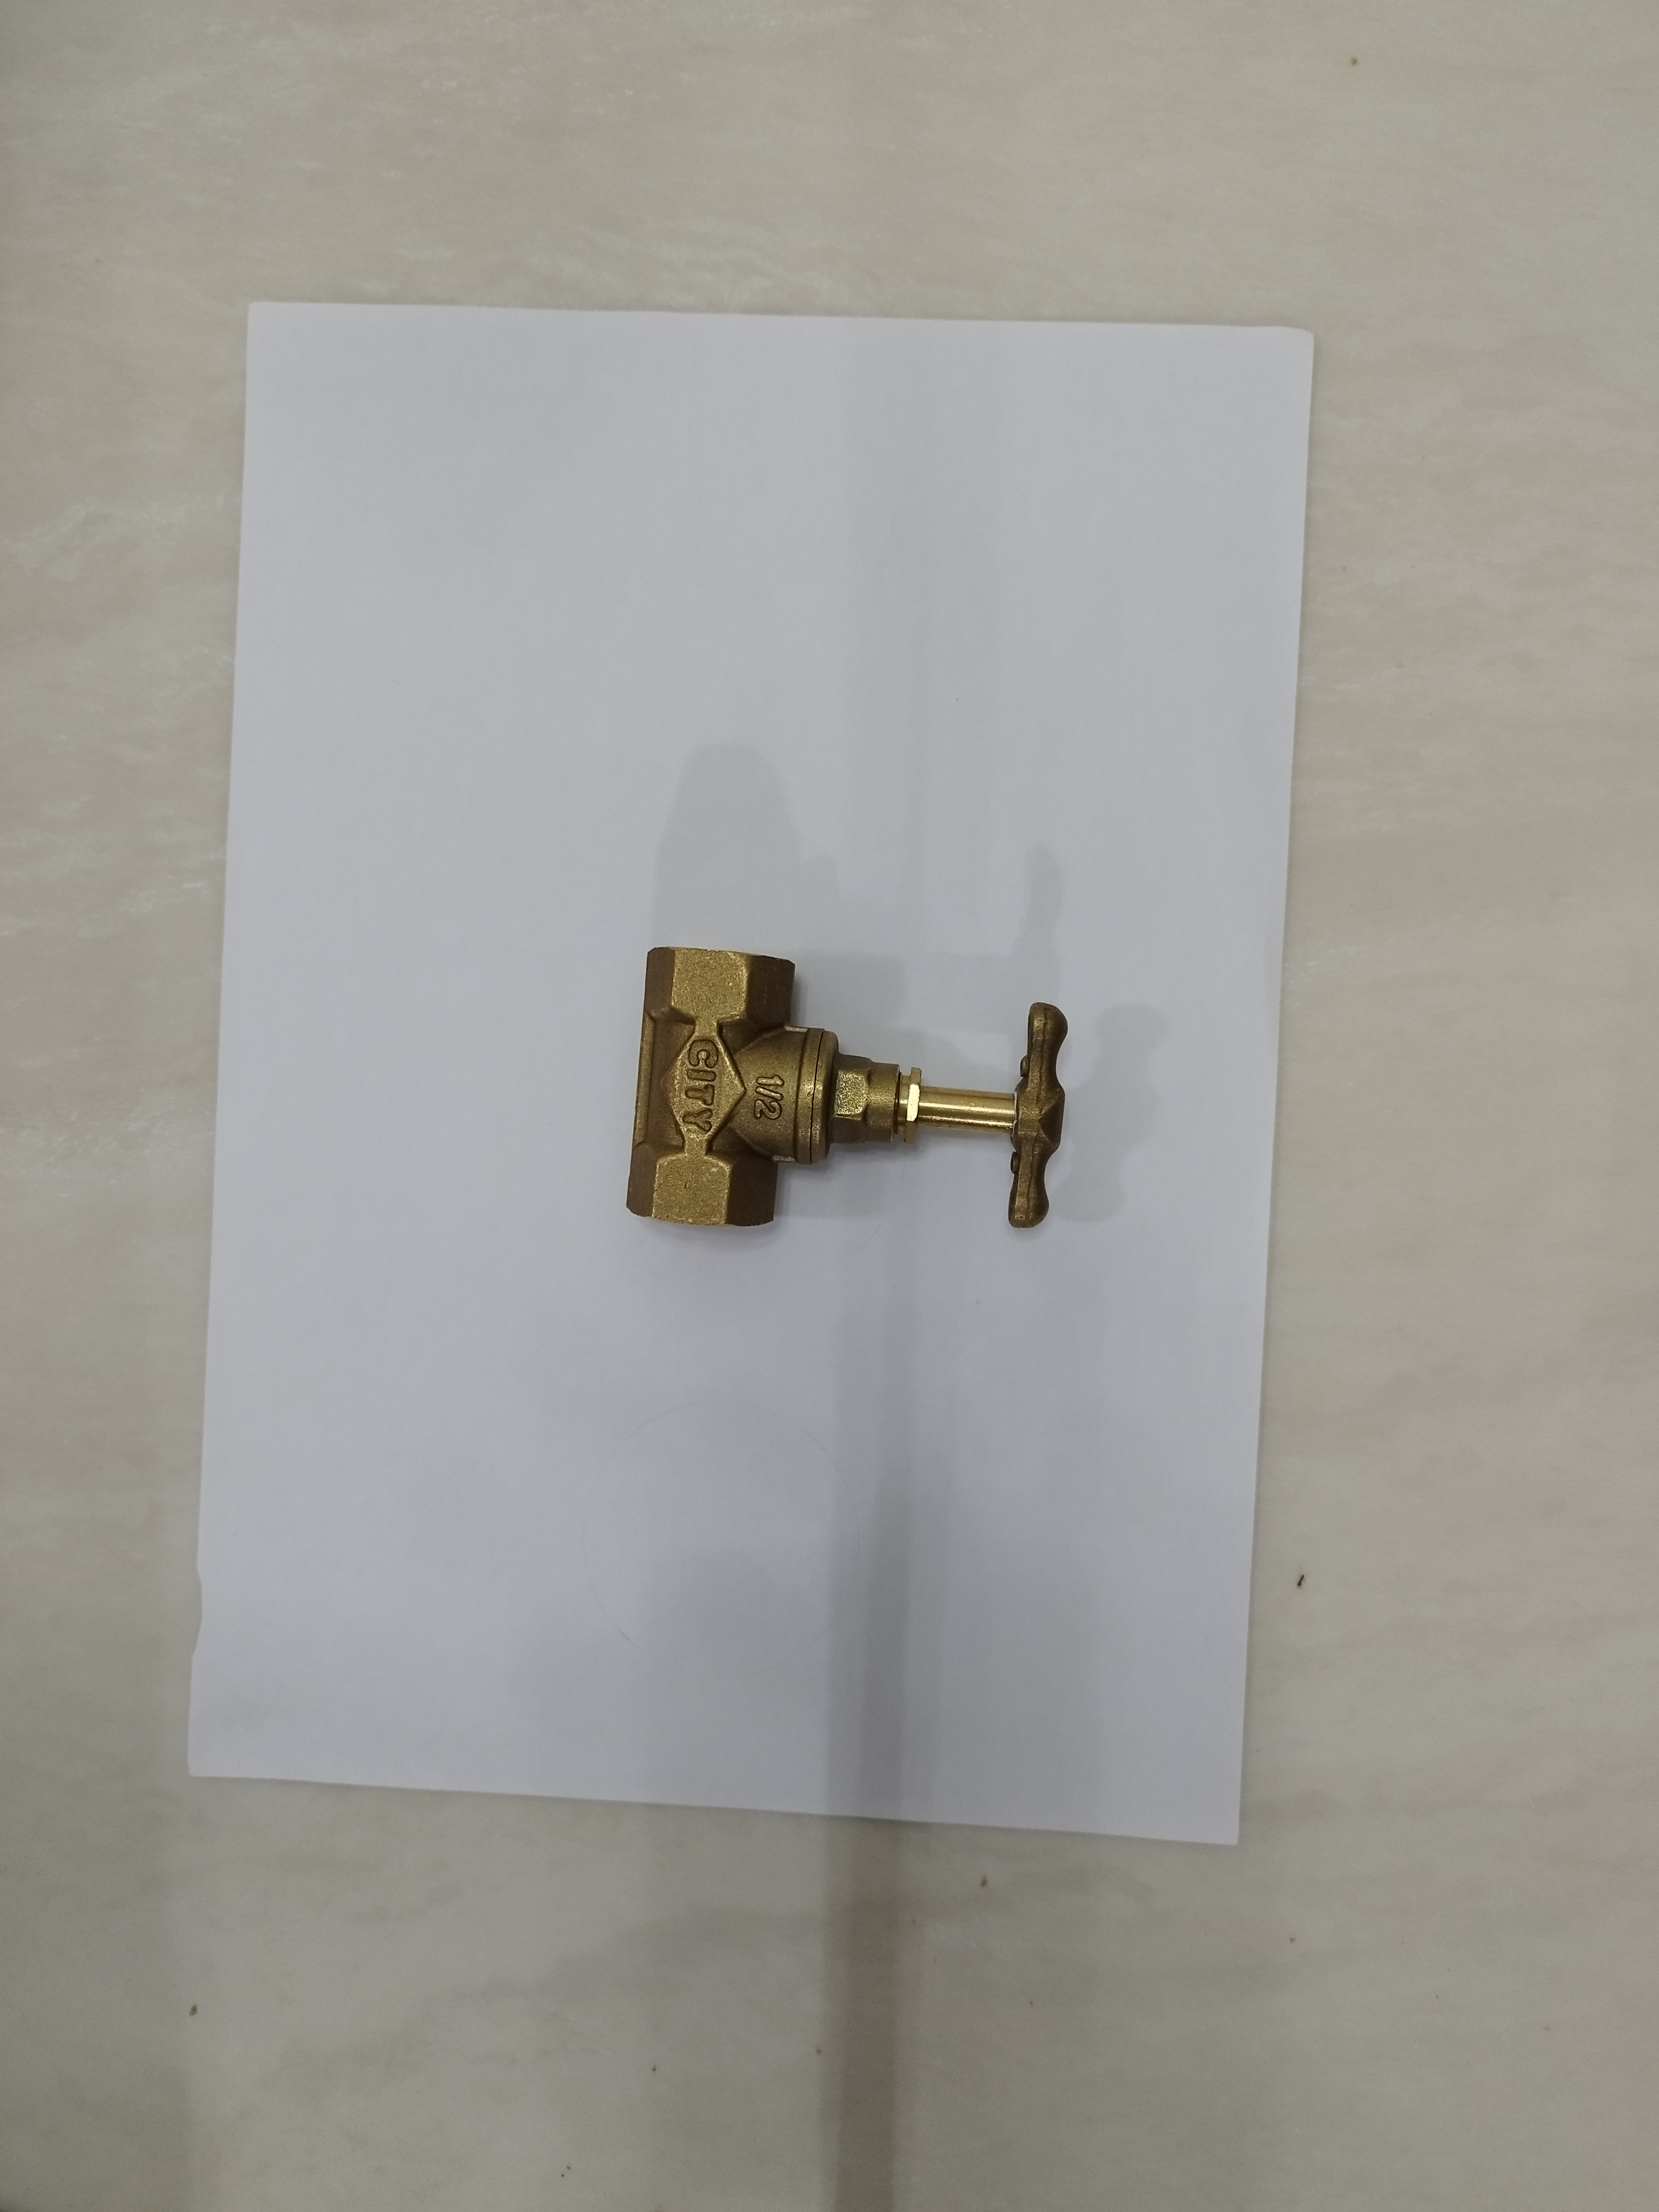brass_gate_valve: (615, 928, 1077, 1256)
